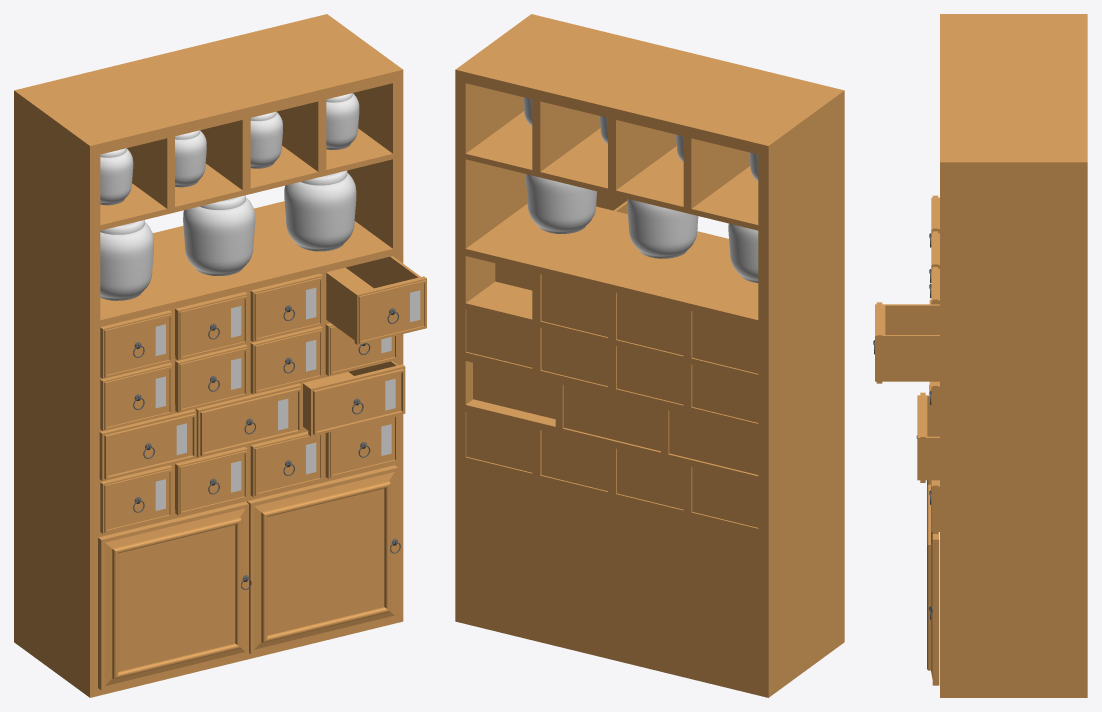
3 views of the same model, side by side, from view 1: azimuth 30°, elevation 25°; view 2: azimuth 150°, elevation 25°; view 3: azimuth 270°, elevation 25° (orthographic). The views are drawn at different scales.
Parts seen in each view (by area): view 1: dfd, 柜子.001, 柜子, chouti1, pCube51, pCube51.001, pCube51.002, 罐子.001, 罐子.002, chouti1.001, chouti1.002, chouti1.010 (+13 smaller); view 2: dfd, pCube51.001, pCube51.002, 罐子.002, 罐子.001, chouti1.003, chouti1.002, chouti1.001, pCube51, chouti1.008, chouti1.010, chouti1.011 (+7 smaller); view 3: dfd, chouti1, 柜子, pCube51, chouti1.008, chouti1.004, chouti1.003, chouti1.002.
Boxes of the visible parts, x1=… form: dfd: x1=14, y1=14, x2=403, y2=697; 柜子.001: x1=98, y1=501, x2=251, y2=690; 柜子: x1=247, y1=465, x2=400, y2=653; chouti1: x1=326, y1=256, x2=426, y2=344; pCube51: x1=303, y1=361, x2=405, y2=436; pCube51.001: x1=195, y1=383, x2=301, y2=457; pCube51.002: x1=99, y1=409, x2=196, y2=480; 罐子.001: x1=284, y1=170, x2=356, y2=251; 罐子.002: x1=183, y1=195, x2=255, y2=275; chouti1.001: x1=250, y1=273, x2=322, y2=342; chouti1.002: x1=175, y1=292, x2=247, y2=360; chouti1.010: x1=175, y1=447, x2=247, y2=515; dfd: x1=455, y1=14, x2=844, y2=697; pCube51.001: x1=563, y1=385, x2=660, y2=451; pCube51.002: x1=669, y1=410, x2=758, y2=474; 罐子.002: x1=627, y1=199, x2=698, y2=258; 罐子.001: x1=526, y1=174, x2=597, y2=233; chouti1.003: x1=692, y1=311, x2=758, y2=373; chouti1.002: x1=617, y1=293, x2=683, y2=355; chouti1.001: x1=541, y1=274, x2=607, y2=336; pCube51: x1=473, y1=362, x2=555, y2=419; chouti1.008: x1=466, y1=412, x2=532, y2=472; chouti1.010: x1=617, y1=449, x2=683, y2=509; chouti1.011: x1=692, y1=467, x2=758, y2=527; dfd: x1=940, y1=14, x2=1087, y2=697; chouti1: x1=873, y1=302, x2=939, y2=383; 柜子: x1=927, y1=483, x2=939, y2=685; pCube51: x1=916, y1=392, x2=939, y2=482; chouti1.008: x1=929, y1=480, x2=939, y2=533; chouti1.004: x1=929, y1=381, x2=939, y2=434; chouti1.003: x1=929, y1=195, x2=939, y2=247; chouti1.002: x1=929, y1=231, x2=939, y2=283.
Bounding box in the file's own units: 127 × 214 × 77.57.
